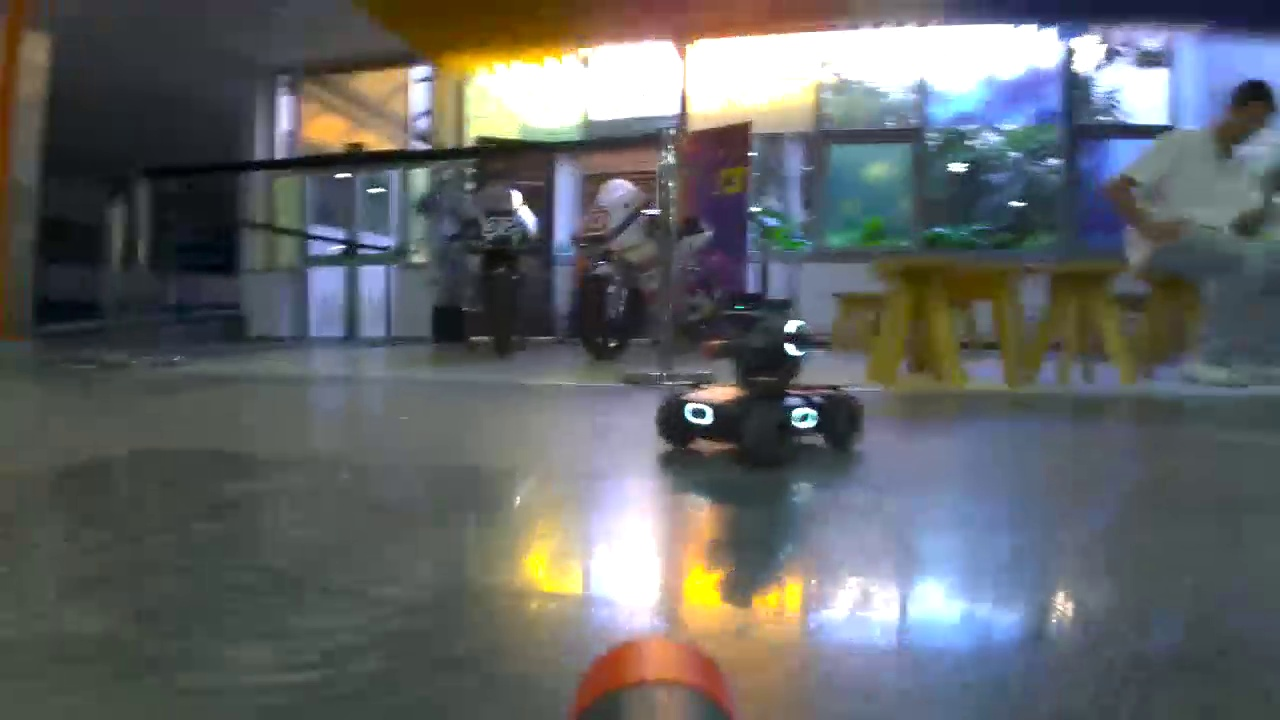robot: (655, 315, 865, 455)
